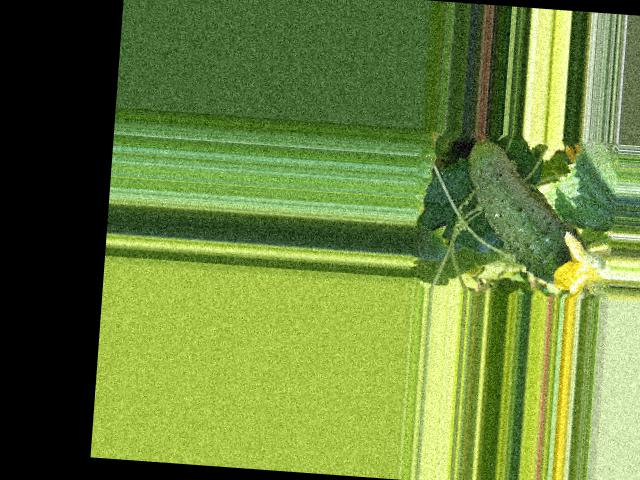cucumber: (459, 131, 594, 285)
